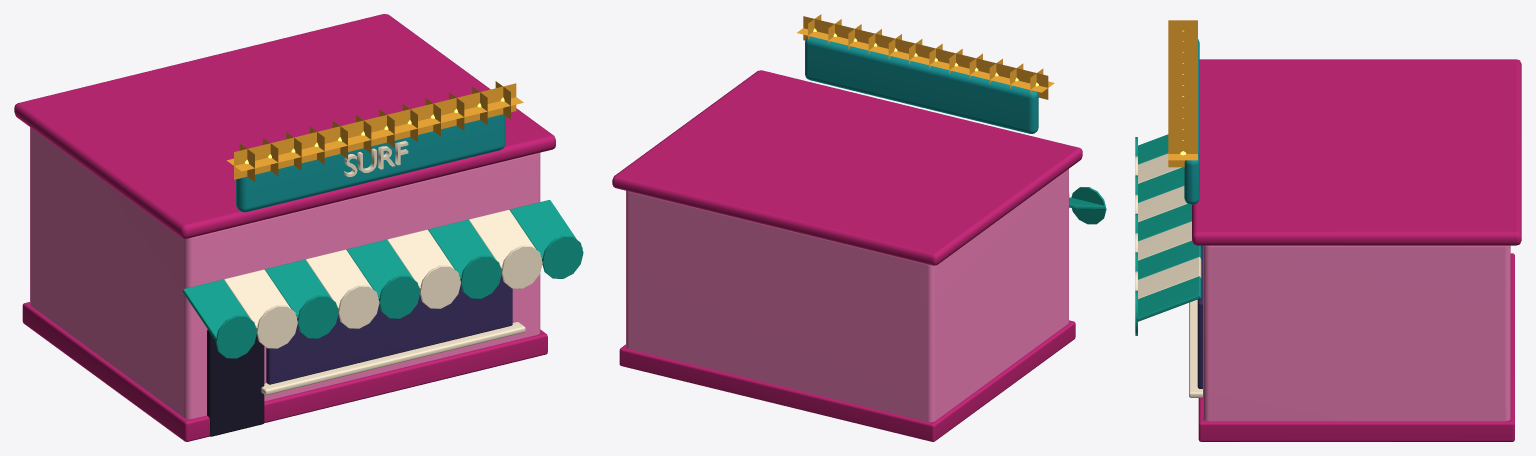
Rendered from beach_shop_a.glb.
3 renders of one model, left to right at view 1: azimuth 30°, elevation 25°; view 2: azimuth 150°, elevation 25°; view 3: azimuth 270°, elevation 25°, orthographic. The views are drawn at different scales.
Parts seen in each view (by area): view 1: Shop; view 2: Shop; view 3: Shop.
Boxes of the visible parts, x1=… form: Shop: x1=14, y1=14, x2=583, y2=441; Shop: x1=612, y1=14, x2=1106, y2=441; Shop: x1=1135, y1=20, x2=1521, y2=441.
Size of the model in its own units: 9.5 by 6.96 by 8.79.
